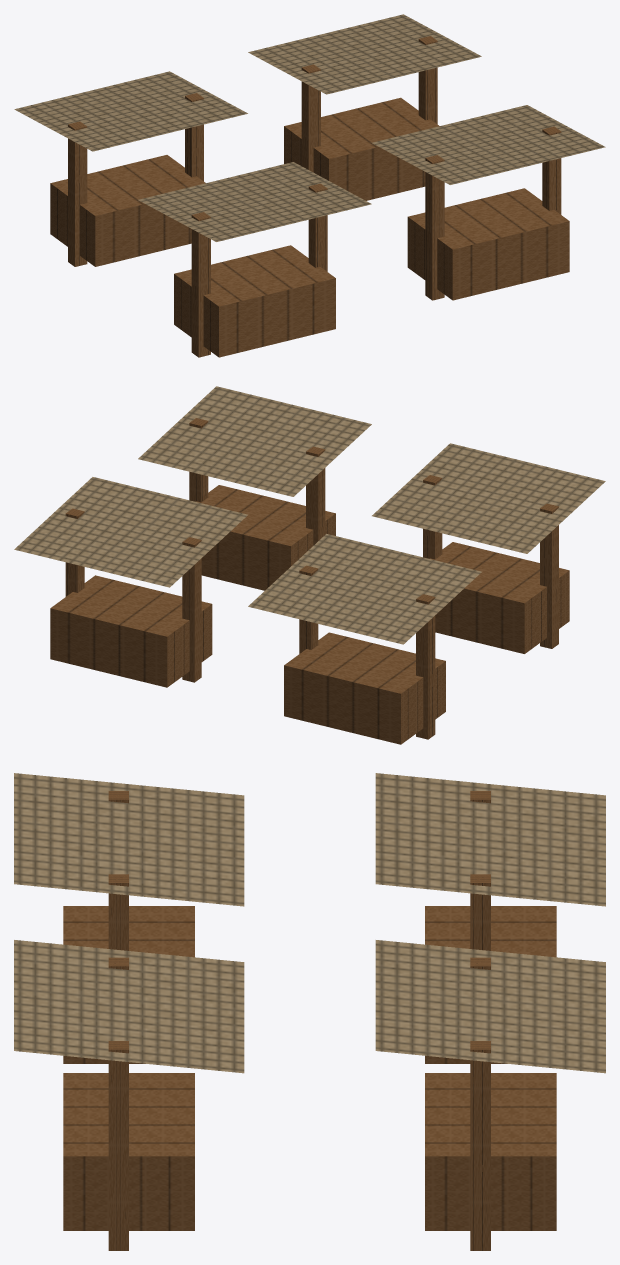
File: domestic-MARKET-3-lod2.glb
3 renders of one model, top to bottom at view 1: azimuth 30°, elevation 25°; view 2: azimuth 150°, elevation 25°; view 3: azimuth 270°, elevation 25°, orthographic. The views are drawn at different scales.
Bounding box in the file's own units: 0.8 × 0.28 × 0.72.
Materials: 1 (1 with a texture image).
